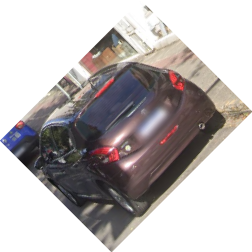car: (37, 60, 216, 217)
